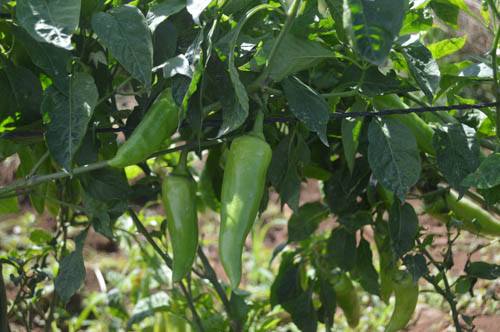ChiliPepper: (216, 135, 273, 292), (108, 91, 184, 175), (162, 177, 198, 284), (377, 94, 444, 150), (430, 185, 494, 236), (369, 229, 396, 297), (328, 279, 363, 326), (390, 273, 417, 332)
